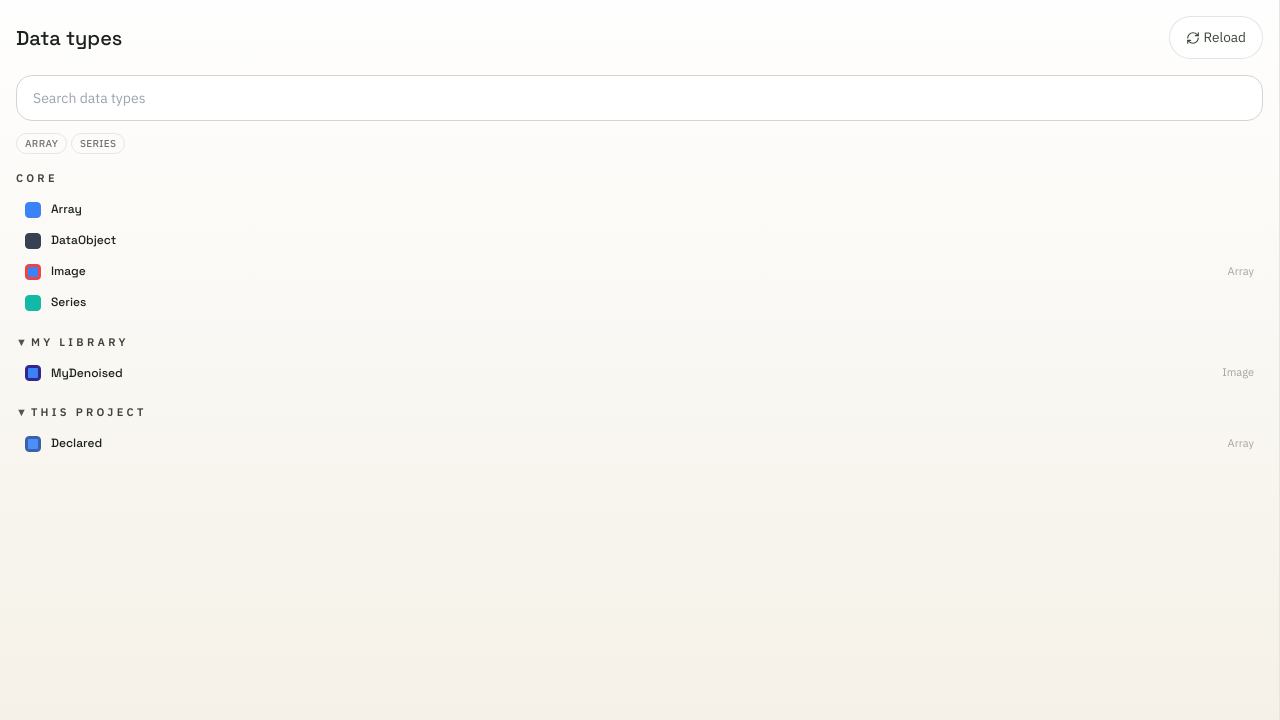
Test: Data types tab — hover popover (FR-042, FR-043, FR-056) › opens after the shared dwell delay and shows name and description
The image size is (1280, 720).
Hover over the element with test id "palette-type-row" showing "MyDenoised Image".
mouse_move(640, 373)  # box [16,358,1263,388]
Wait 151 ms
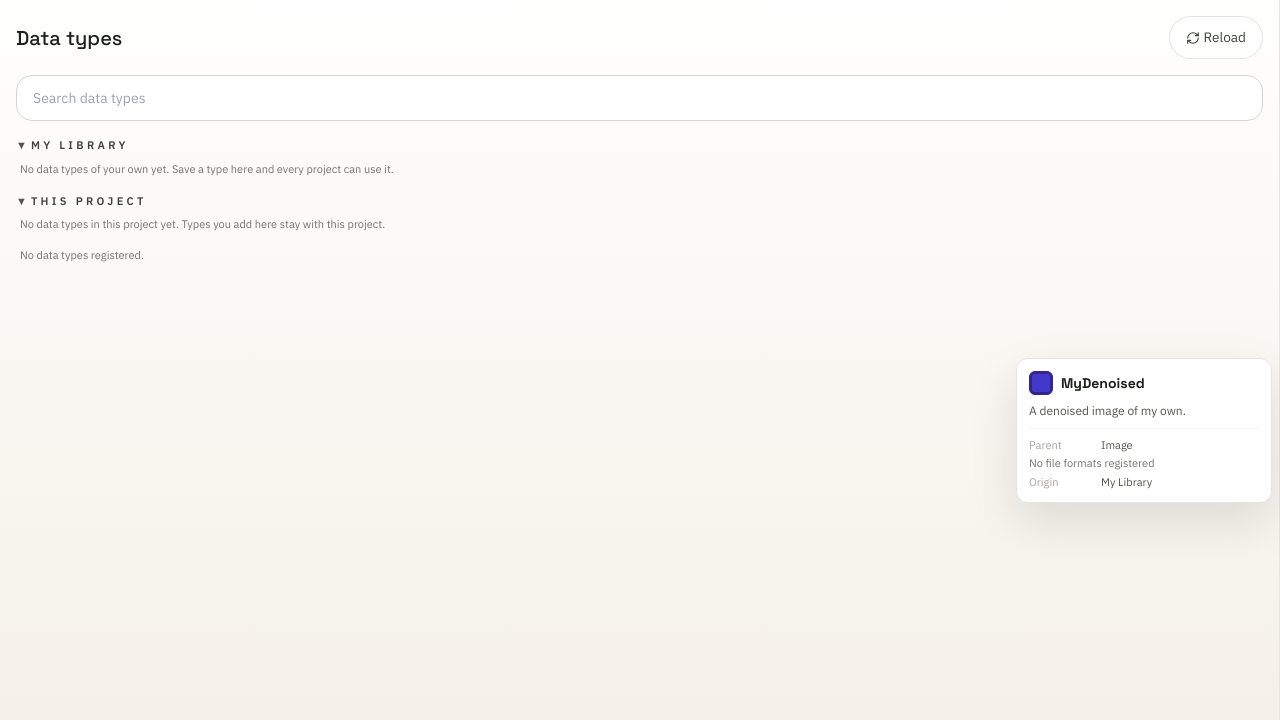
Expected: the text "MyDenoised" is shown, [1061,373,1145,393]
Result: the text "A denoised image of my own." is shown at [1029,403,1186,418]
